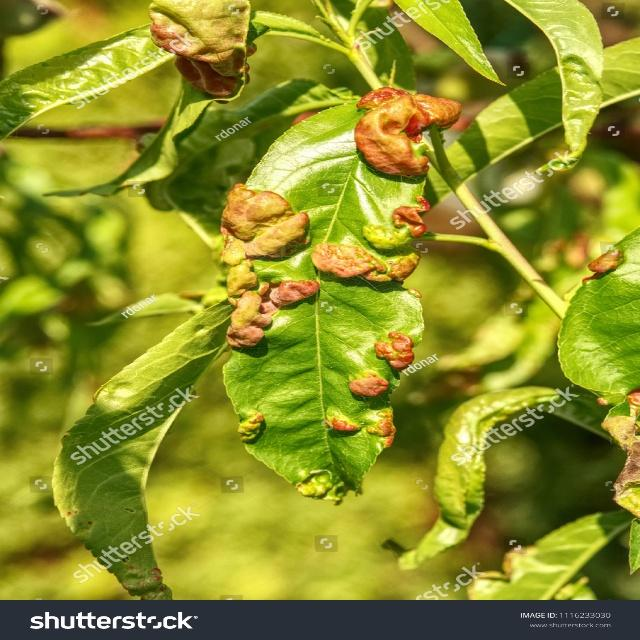leaf_curl: (207, 77, 450, 514)
